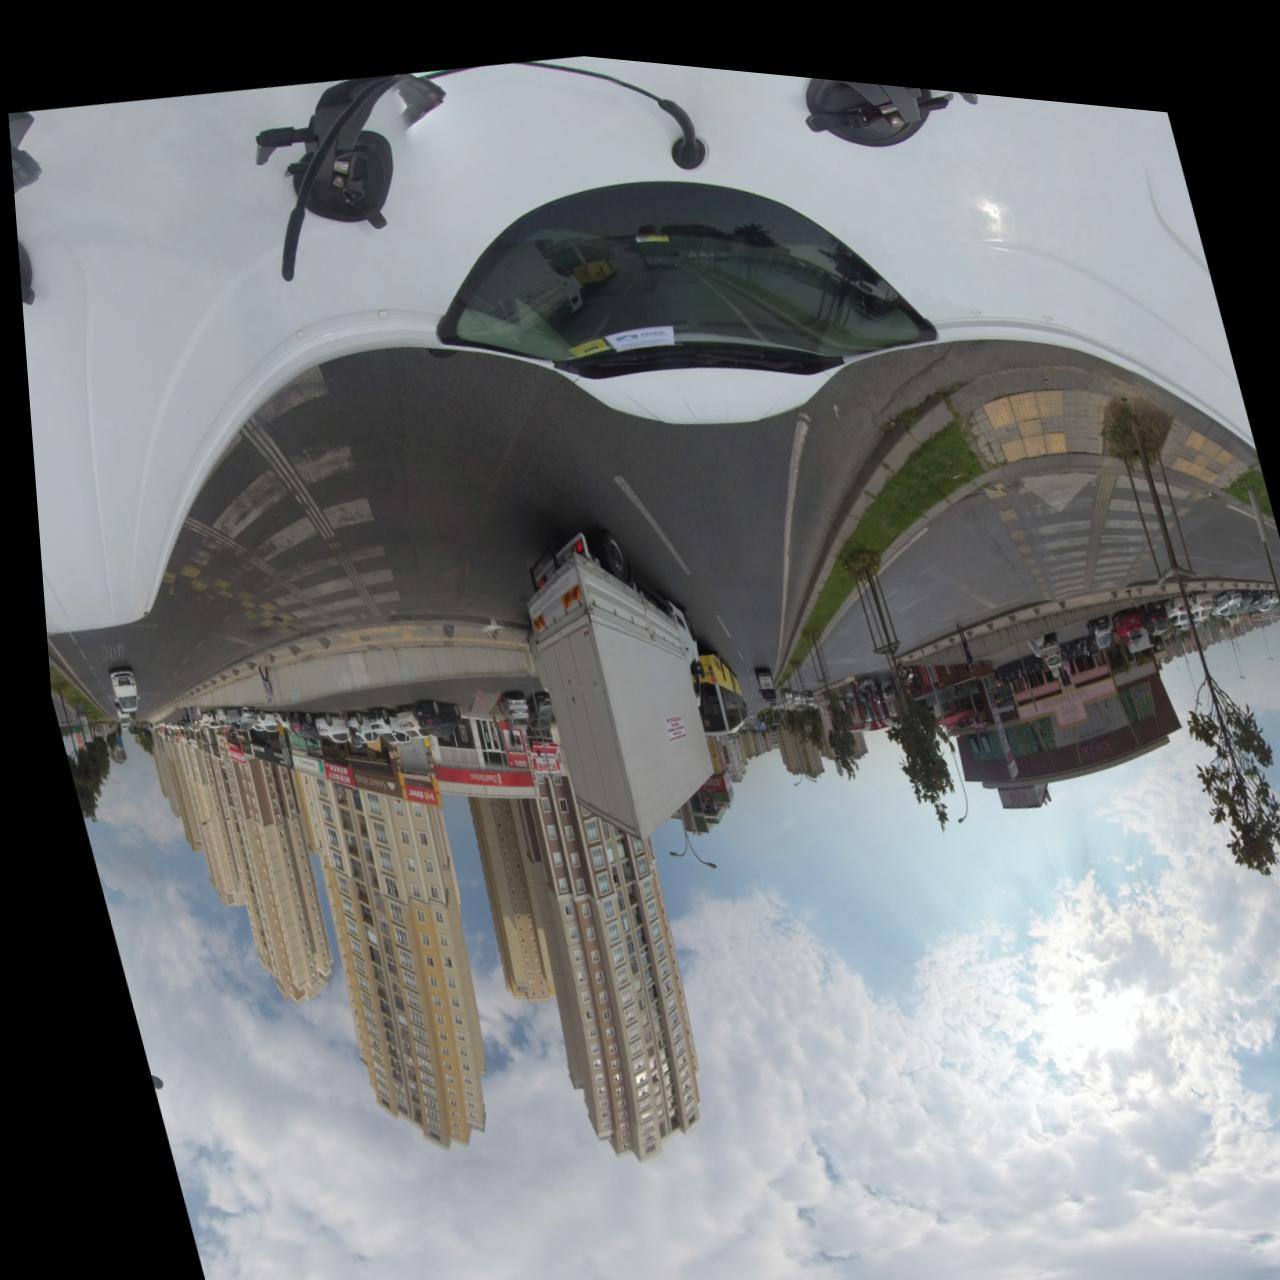SignStore: (341, 762, 386, 789), (311, 755, 339, 777), (392, 777, 424, 796), (454, 762, 496, 775), (281, 749, 311, 765), (523, 747, 545, 762), (238, 738, 256, 753), (217, 745, 233, 760), (988, 682, 1006, 695), (260, 743, 272, 760), (230, 737, 239, 749), (190, 740, 199, 750), (199, 742, 207, 754), (177, 735, 185, 745), (206, 740, 213, 751), (185, 737, 191, 747)
